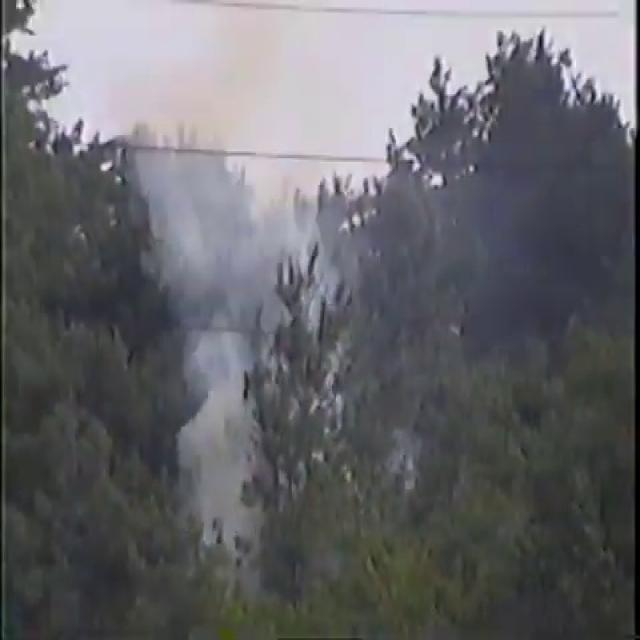Smoke: (134, 12, 353, 588)
